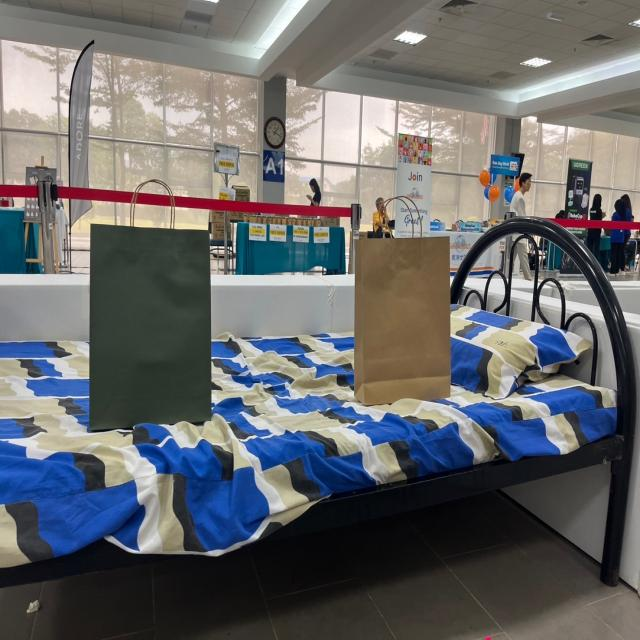bag: (99, 170, 207, 411), (350, 162, 450, 388)
